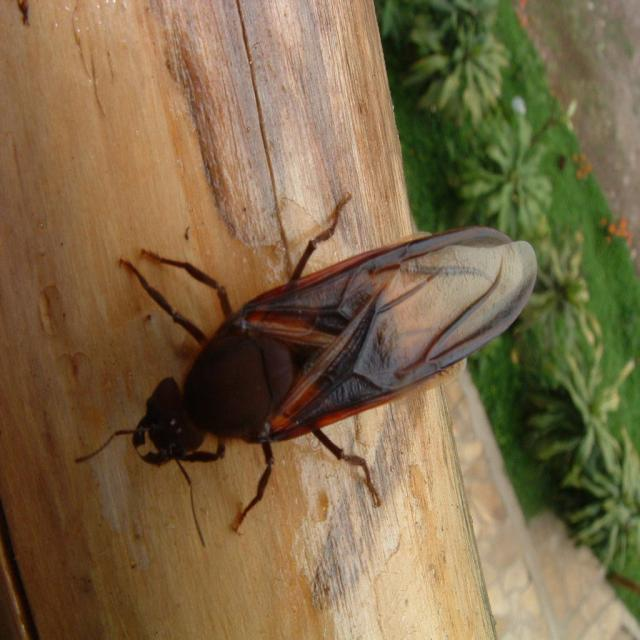Alive-Female-Alate: (74, 192, 538, 550)
